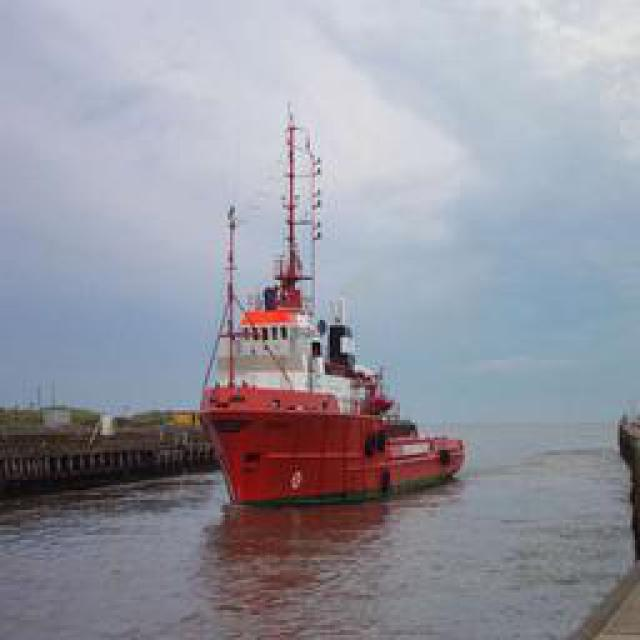Ship: (195, 97, 470, 510)
